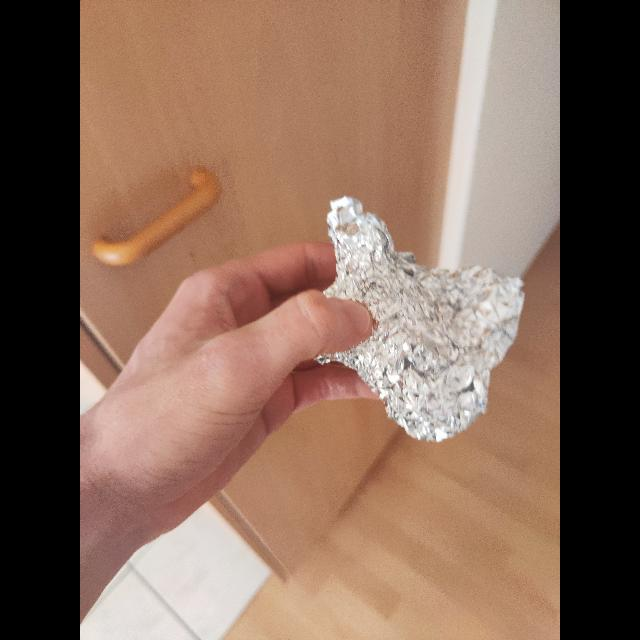Metal: (312, 194, 528, 438)
